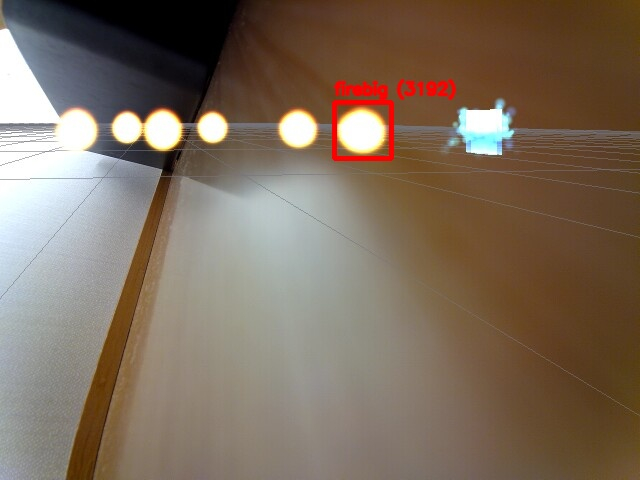firebig: (334, 102, 391, 158)
